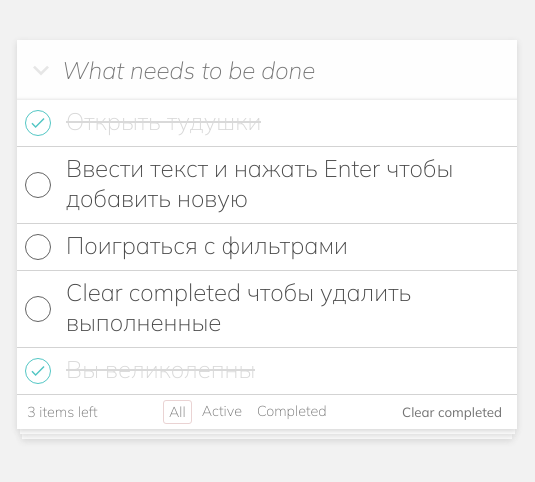
Todo app test › Add todo
Step 1. Type "New test todo" into the field with class "todo-input" → (267, 70), box top-left (17, 40), bottom-right (517, 100)
Then press Enter
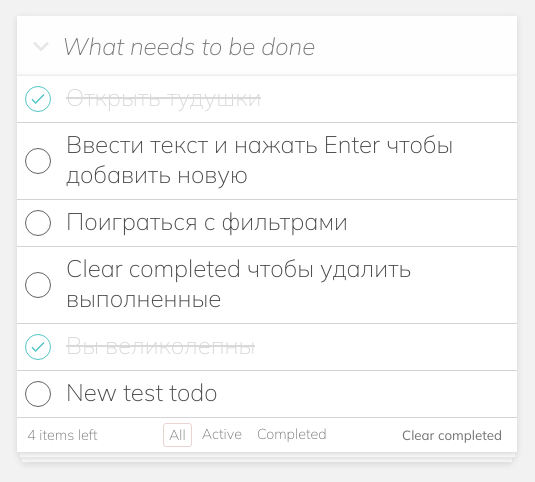
Check: the text with class "checkList--item__label" reads "New test todo", box top-left (66, 377), bottom-right (217, 407)
Check: the text with class "control--itemsLeft" reads "4 items left", box top-left (27, 426), bottom-right (98, 444)
